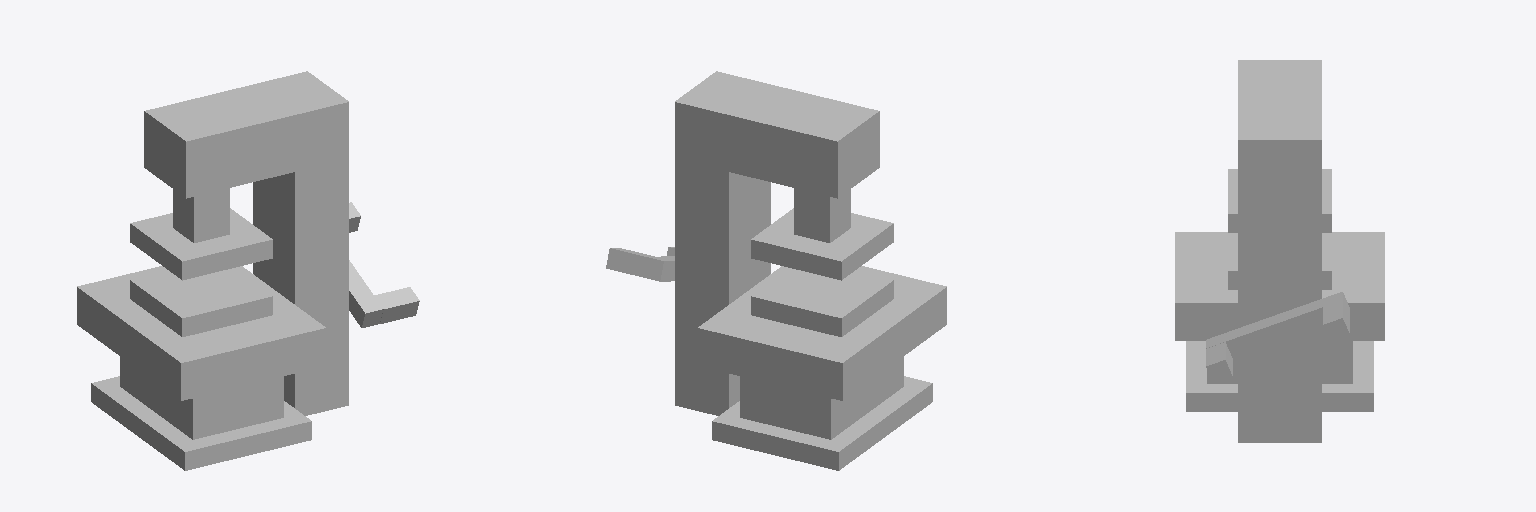
Rendered from engraver.obj.
3 renders of one model, left to right at view 1: azimuth 30°, elevation 25°; view 2: azimuth 150°, elevation 25°; view 3: azimuth 270°, elevation 25°, orthographic.
Visible parts, largest first — view 1: engraver3, anviltop, engraver1, anvilbottom, engraver2, anvilcenter, engraver5, engraver4, crank, handle2; view 2: engraver3, anviltop, engraver1, anvilbottom, engraver2, anvilcenter, engraver5, engraver4, handle1, crank; view 3: engraver1, engraver3, anviltop, anvilbottom, crank, anvilcenter, engraver5, engraver2, handle2, handle1.
Boxes of the visible parts, <box> form: engraver3: <box>144,71,348,198</box>; anviltop: <box>77,266,325,400</box>; engraver1: <box>253,159,348,415</box>; anvilbottom: <box>91,376,311,470</box>; engraver2: <box>130,268,272,336</box>; anvilcenter: <box>120,357,283,439</box>; engraver5: <box>130,208,272,280</box>; engraver4: <box>173,188,229,242</box>; crank: <box>349,260,382,327</box>; handle2: <box>374,287,419,323</box>; engraver3: <box>675,71,879,198</box>; anviltop: <box>698,266,946,400</box>; engraver1: <box>675,159,770,415</box>; anvilbottom: <box>712,376,932,470</box>; engraver2: <box>751,268,893,336</box>; anvilcenter: <box>740,357,903,439</box>; engraver5: <box>751,208,893,280</box>; engraver4: <box>794,188,850,242</box>; handle1: <box>606,248,654,276</box>; crank: <box>642,256,674,281</box>; engraver1: <box>1238,197,1321,442</box>; engraver3: <box>1238,60,1321,196</box>; anviltop: <box>1175,232,1384,340</box>; anvilbottom: <box>1186,341,1373,411</box>; crank: <box>1206,292,1349,358</box>; anvilcenter: <box>1207,341,1352,383</box>; engraver5: <box>1228,169,1331,232</box>; engraver2: <box>1228,233,1331,289</box>; handle2: <box>1206,342,1232,383</box>; handle1: <box>1323,300,1349,341</box>.
Bounding box in the file's own units: 0.875 × 1 × 0.625.